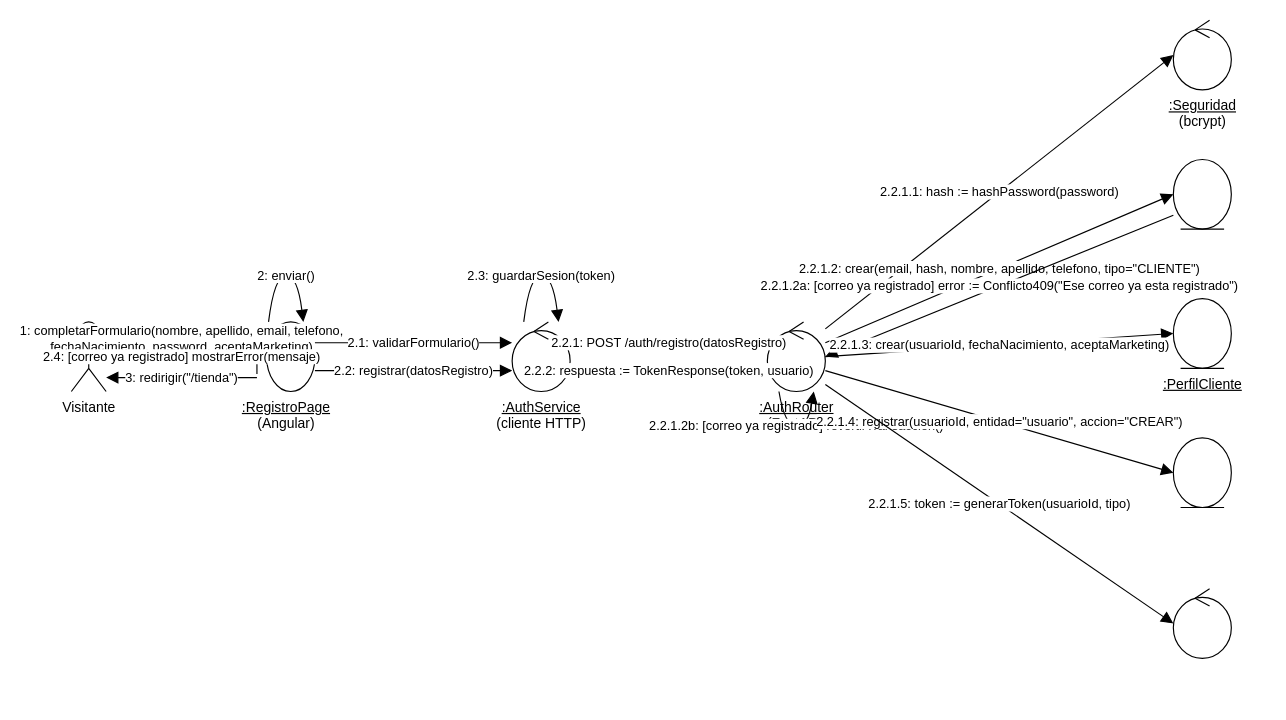
The diagram is 1286 pixels wide and 720 high, and some of its shapes have lost their labels. The box of each missing label's shape, as (x1, y1, x2, y2) in pixels:
:Auditoria «MomentoIntervalo»: (1172, 437, 1231, 507)
:GeneradorToken (JWT): (1172, 588, 1231, 658)
:Usuario: (1172, 158, 1231, 229)
